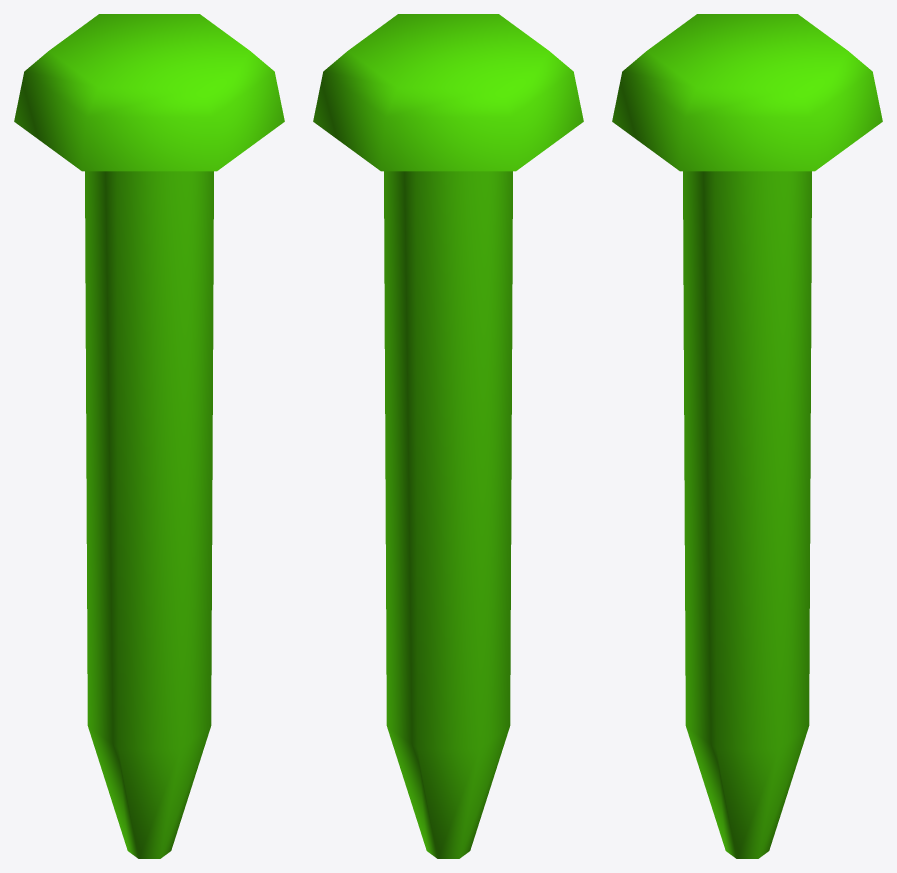
Rendered from shtuka_5.fbx.
3 views of the same model, side by side, from view 1: azimuth 30°, elevation 25°; view 2: azimuth 150°, elevation 25°; view 3: azimuth 270°, elevation 25° (orthographic).
Parts seen in each view (by area): view 1: nail; view 2: nail; view 3: nail.
Part boxes in pixels (left/top/right/bottom): nail: left=14, top=14, right=284, bottom=858; nail: left=313, top=14, right=583, bottom=858; nail: left=612, top=14, right=882, bottom=858.
Size of the model in its own units: 9.59 by 36.11 by 11.08.
